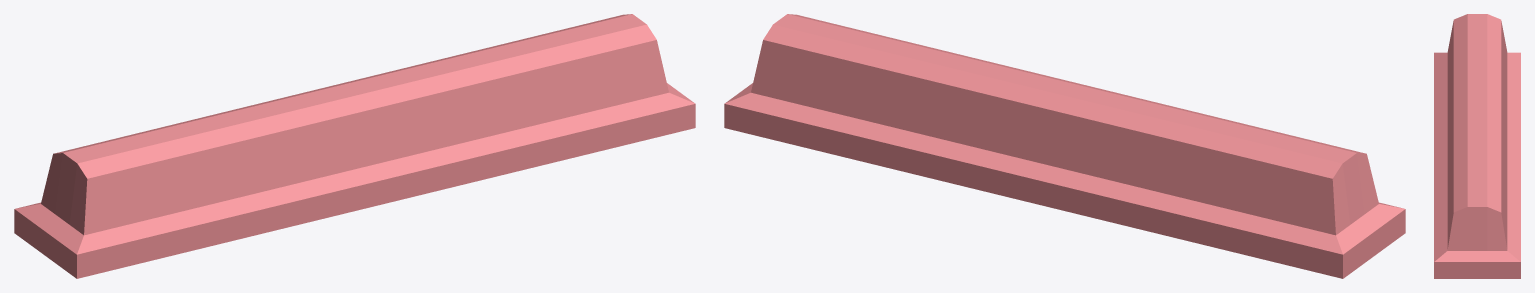
File: barri1.fbx
The picture shows the model from 3 angles, left to right: view 1: azimuth 30°, elevation 25°; view 2: azimuth 150°, elevation 25°; view 3: azimuth 270°, elevation 25°; orthographic projection. The views are drawn at different scales.
Parts seen in each view (by area): view 1: Barricade; view 2: Barricade; view 3: Barricade.
Part boxes in pixels (<box>): Barricade: <box>14,14,695,278</box>; Barricade: <box>724,14,1405,278</box>; Barricade: <box>1434,14,1520,278</box>.
Bounding box in the file's own units: 8 × 1.14 × 1.4.
